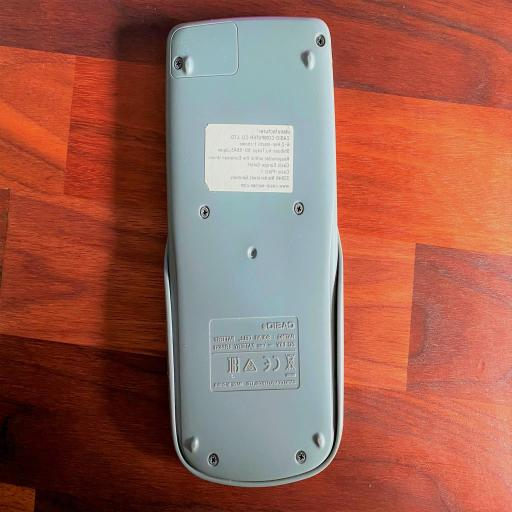Phillips: (173, 50, 186, 80), (208, 447, 219, 470), (294, 200, 307, 219), (199, 202, 211, 221), (315, 34, 326, 52), (296, 448, 308, 464)
